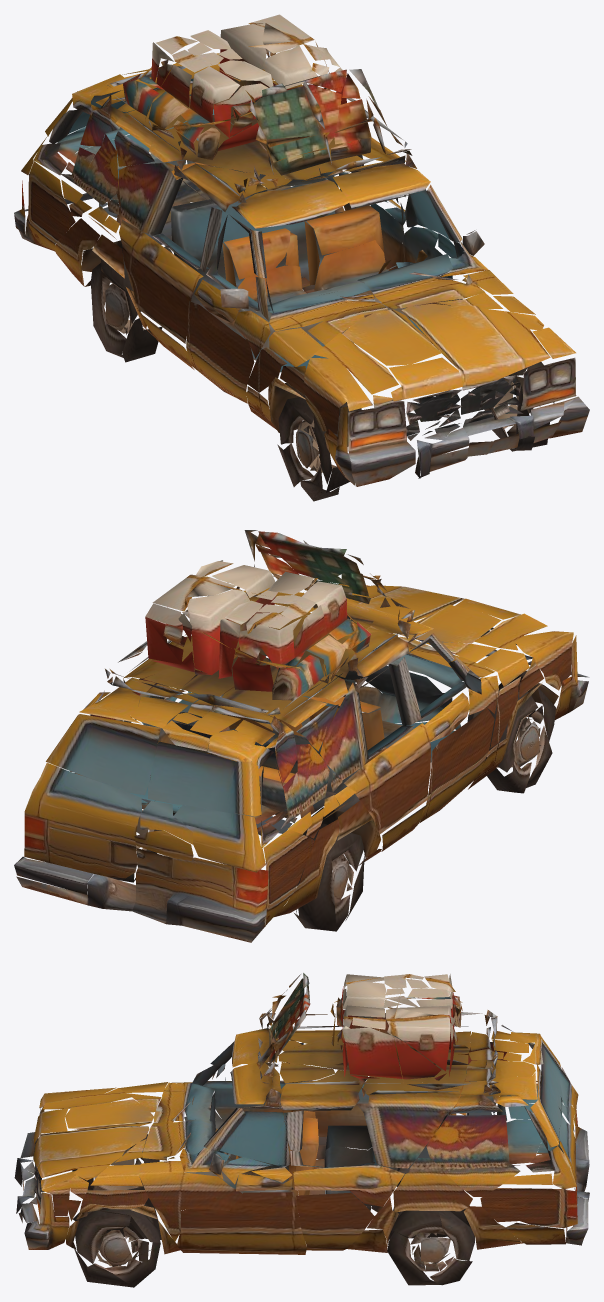
Rendered from wagon.glb.
3 renders of one model, top to bottom at view 1: azimuth 30°, elevation 25°; view 2: azimuth 150°, elevation 25°; view 3: azimuth 270°, elevation 25°, orthographic. The views are drawn at different scales.
Visible parts, largest first — view 1: tripo_node_67d047ee-6aa7-45e1-83ba-cd4cd3b83784; view 2: tripo_node_67d047ee-6aa7-45e1-83ba-cd4cd3b83784; view 3: tripo_node_67d047ee-6aa7-45e1-83ba-cd4cd3b83784.
Boxes of the visible parts, x1,y1,x2,y2 form: tripo_node_67d047ee-6aa7-45e1-83ba-cd4cd3b83784: [14, 14, 589, 501]; tripo_node_67d047ee-6aa7-45e1-83ba-cd4cd3b83784: [14, 530, 589, 942]; tripo_node_67d047ee-6aa7-45e1-83ba-cd4cd3b83784: [14, 973, 589, 1287].
Bounding box in the file's own units: 1.59 × 1.78 × 3.65.
1 material, 1 textured.
